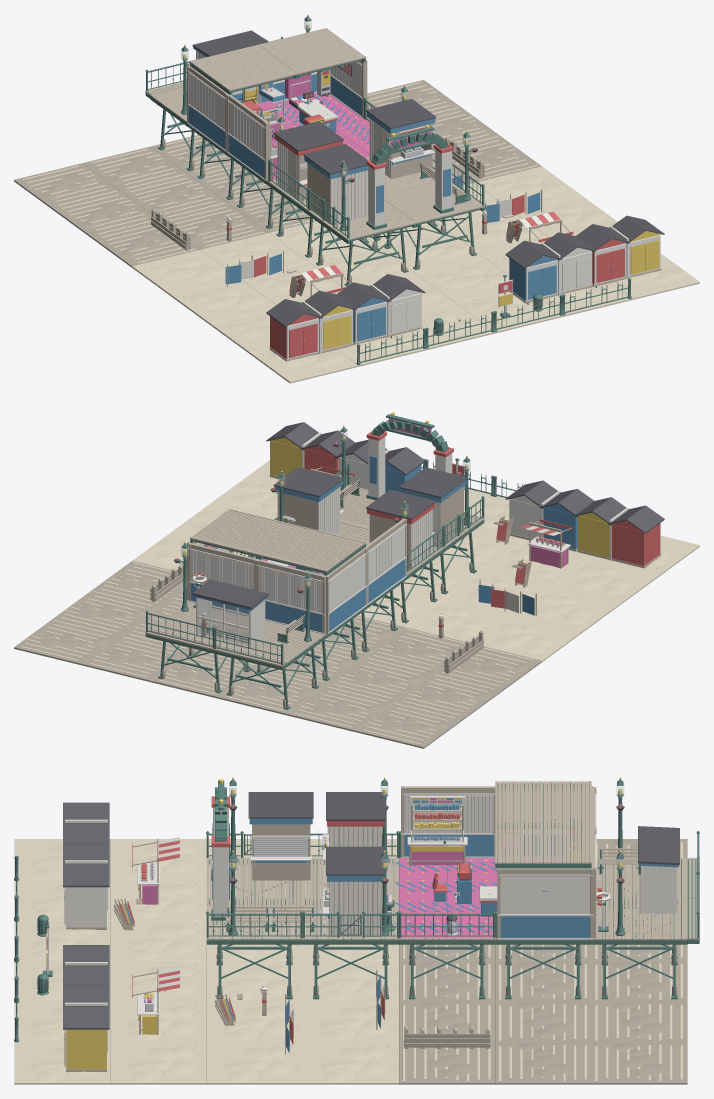
The model's file is amusement-arcade-and-seaside-pier-seasid-562a6cc8-starter-scene__35431.glb.
3 renders of one model, top to bottom at view 1: azimuth 30°, elevation 25°; view 2: azimuth 150°, elevation 25°; view 3: azimuth 270°, elevation 25°, orthographic. The views are drawn at different scales.
Parts seen in each view (by area): view 1: 076-pier-deck-module/1, 077-pier-deck-module/1, 012-sand-ground-tile/0, 018-sand-ground-tile/0, 036-wet-sand-tile/0, 030-wet-sand-tile/0, 037-wet-sand-tile/0, 009-sand-ground-tile/0, 031-wet-sand-tile/0, 023-sand-ground-tile/0, 025-wet-sand-tile/0, 015-sand-ground-tile/0 (+69 smaller); view 2: 076-pier-deck-module/1, 077-pier-deck-module/1, 006-sand-ground-tile/0, 018-sand-ground-tile/0, 036-wet-sand-tile/0, 041-wet-sand-tile/0, 012-sand-ground-tile/0, 037-wet-sand-tile/0, 030-wet-sand-tile/0, 019-sand-ground-tile/0, 031-wet-sand-tile/0, 035-wet-sand-tile/0 (+80 smaller); view 3: 011-sand-ground-tile/0, 017-sand-ground-tile/0, 023-sand-ground-tile/0, 075-arcade-wall-module/1, 077-pier-deck-module/1, 076-pier-deck-module/1, 008-sand-ground-tile/0, 041-wet-sand-tile/0, 022-sand-ground-tile/0, 035-wet-sand-tile/0, 040-wet-sand-tile/0, 034-wet-sand-tile/0 (+102 smaller).
Boxes of the visible parts, box(x1,y1,x2,y2) form: 076-pier-deck-module/1: box(190, 44, 297, 91); 077-pier-deck-module/1: box(258, 28, 365, 74); 012-sand-ground-tile/0: box(171, 280, 275, 325); 018-sand-ground-tile/0: box(132, 250, 225, 296); 036-wet-sand-tile/0: box(14, 163, 120, 209); 030-wet-sand-tile/0: box(53, 192, 151, 238); 037-wet-sand-tile/0: box(82, 146, 189, 191); 009-sand-ground-tile/0: box(416, 257, 509, 302); 031-wet-sand-tile/0: box(122, 175, 228, 218); 023-sand-ground-tile/0: box(474, 166, 580, 208); 025-wet-sand-tile/0: box(168, 204, 268, 249); 015-sand-ground-tile/0: box(377, 229, 483, 273); 076-pier-deck-module/1: box(258, 525, 365, 572); 077-pier-deck-module/1: box(190, 509, 297, 555); 006-sand-ground-tile/0: box(553, 557, 660, 604); 018-sand-ground-tile/0: box(483, 615, 581, 661); 036-wet-sand-tile/0: box(355, 702, 463, 748); 041-wet-sand-tile/0: box(14, 618, 121, 665); 012-sand-ground-tile/0: box(514, 586, 620, 632); 037-wet-sand-tile/0: box(287, 685, 394, 731); 030-wet-sand-tile/0: box(395, 673, 502, 719); 019-sand-ground-tile/0: box(406, 598, 512, 641); 031-wet-sand-tile/0: box(327, 656, 433, 701); 035-wet-sand-tile/0: box(53, 589, 160, 634); 011-sand-ground-tile/0: box(110, 1042, 206, 1084); 017-sand-ground-tile/0: box(206, 1042, 302, 1084); 023-sand-ground-tile/0: box(303, 1042, 398, 1084); 075-arcade-wall-module/1: box(497, 874, 593, 939); 077-pier-deck-module/1: box(495, 821, 591, 863); 076-pier-deck-module/1: box(495, 781, 591, 821); 008-sand-ground-tile/0: box(110, 920, 206, 960); 041-wet-sand-tile/0: box(591, 1042, 687, 1084); 022-sand-ground-tile/0: box(303, 1001, 398, 1041); 035-wet-sand-tile/0: box(495, 1042, 591, 1084); 040-wet-sand-tile/0: box(591, 1001, 687, 1041); 034-wet-sand-tile/0: box(495, 1001, 591, 1041).
Bounding box in the file's own units: 24 × 7.98 × 28.52.
